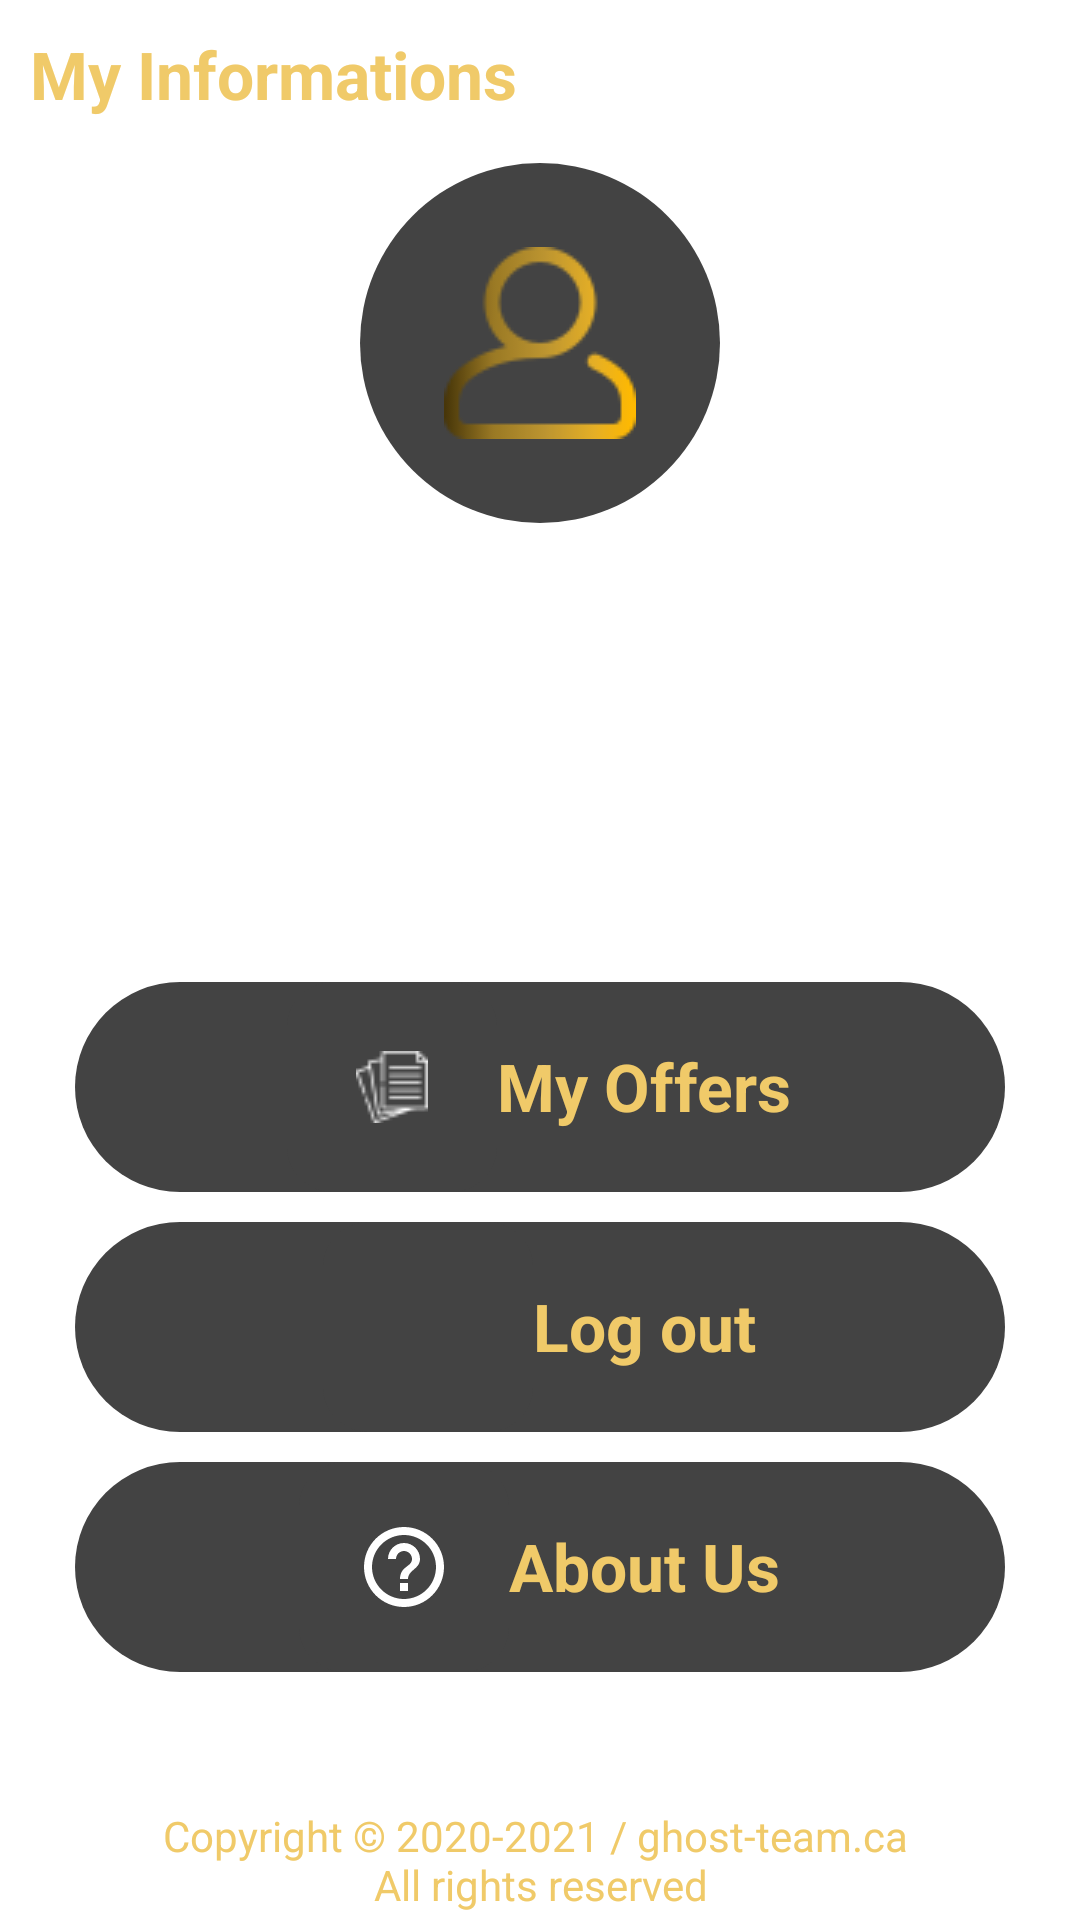

Named icons in this screenshot (1080 × 1920) and their bounding boxes, bbox=[x1, y1, x2, y2]:
help: bbox=[364, 1527, 444, 1607]
paper: bbox=[356, 1051, 428, 1123]
user: bbox=[360, 163, 720, 523]
